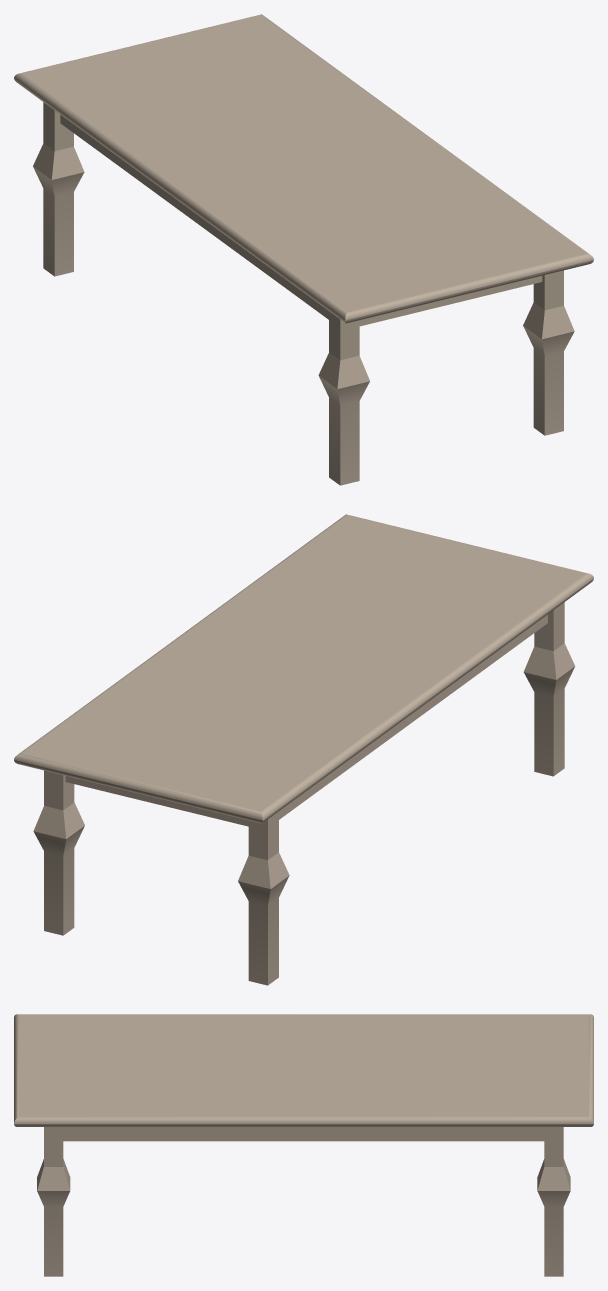
Rendered from GrandeTable_51.fbx.
3 views of the same model, one above another, from view 1: azimuth 30°, elevation 25°; view 2: azimuth 150°, elevation 25°; view 3: azimuth 270°, elevation 25° (orthographic). The views are drawn at different scales.
Parts seen in each view (by area): view 1: pCube95, polySurface21, polySurface20, polySurface22; view 2: pCube95, polySurface22, polySurface23, polySurface21; view 3: pCube95, polySurface23, polySurface20.
Boxes of the visible parts, left/top/right/bottom form: pCube95: left=14, top=14, right=593, bottom=326; polySurface21: left=318, top=311, right=369, bottom=485; polySurface20: left=523, top=270, right=574, bottom=435; polySurface22: left=33, top=102, right=84, bottom=276; pCube95: left=14, top=514, right=593, bottom=826; polySurface22: left=238, top=811, right=289, bottom=985; polySurface23: left=33, top=770, right=84, bottom=935; polySurface21: left=523, top=602, right=575, bottom=776; pCube95: left=14, top=1014, right=593, bottom=1141; polySurface23: left=537, top=1127, right=570, bottom=1276; polySurface20: left=37, top=1127, right=70, bottom=1276.
Bounding box in the file's own units: 56.59 × 40.5 × 130.
